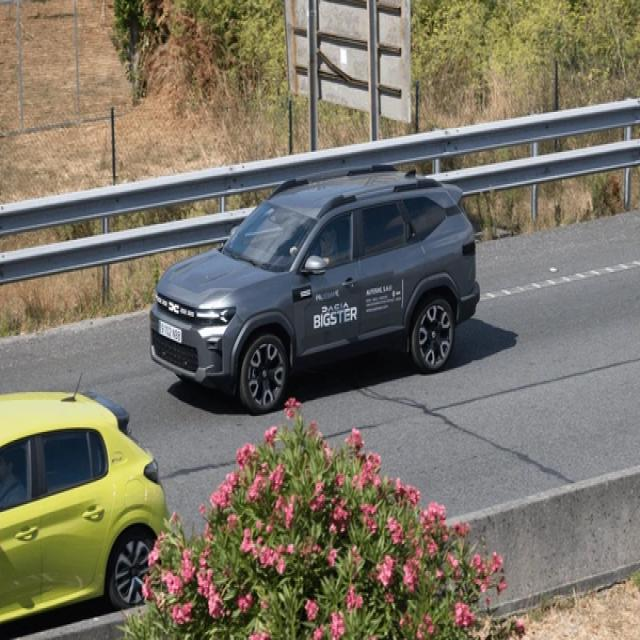dacia: (166, 300, 180, 316)
